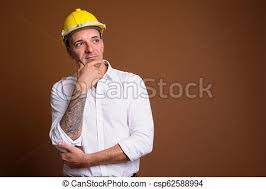Person_wearing_helmet: (59, 6, 109, 51)
